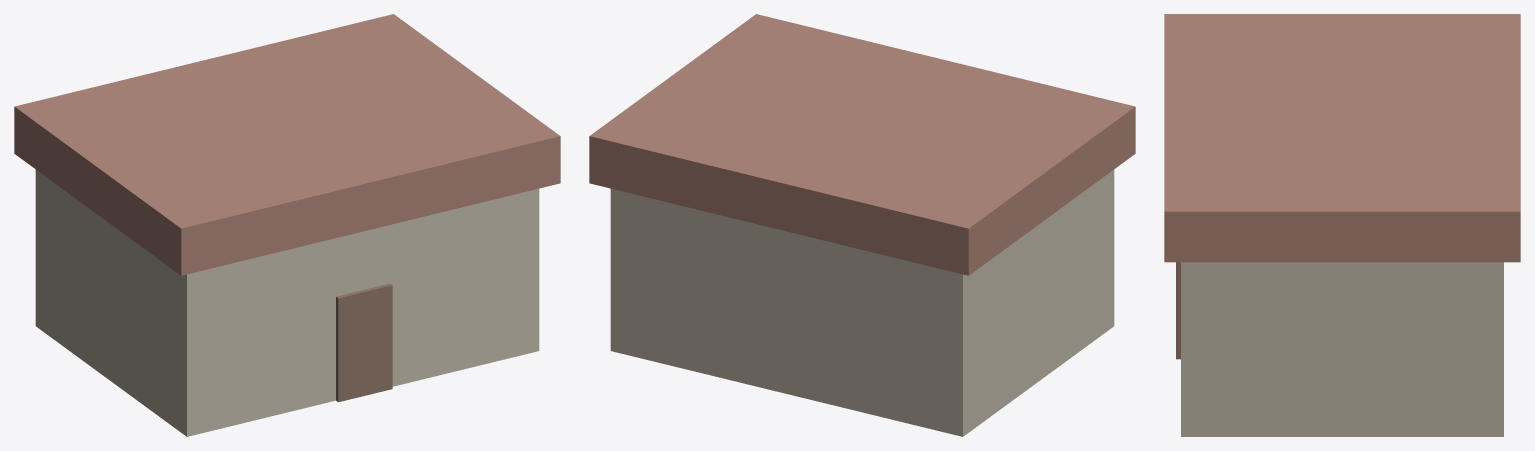
Rendered from house_4x3.glb.
3 views of the same model, side by side, from view 1: azimuth 30°, elevation 25°; view 2: azimuth 150°, elevation 25°; view 3: azimuth 270°, elevation 25° (orthographic). The views are drawn at different scales.
Visible parts, largest first — view 1: roof, walls, door; view 2: roof, walls; view 3: roof, walls, door.
Part boxes in pixels (x1,y1,x2,y2): roof: (14,14,560,275); walls: (35,169,539,436); door: (336,283,392,402); roof: (589,14,1135,275); walls: (610,169,1114,436); roof: (1164,14,1520,262); walls: (1181,262,1503,436); door: (1176,262,1180,359).
Size of the model in its own units: 4.2 by 2.3 by 3.2.
